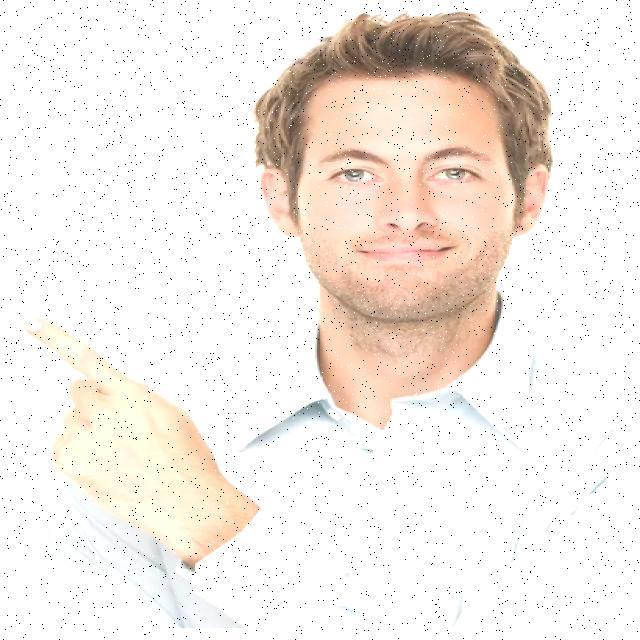face_no_mask: (254, 80, 542, 326)
